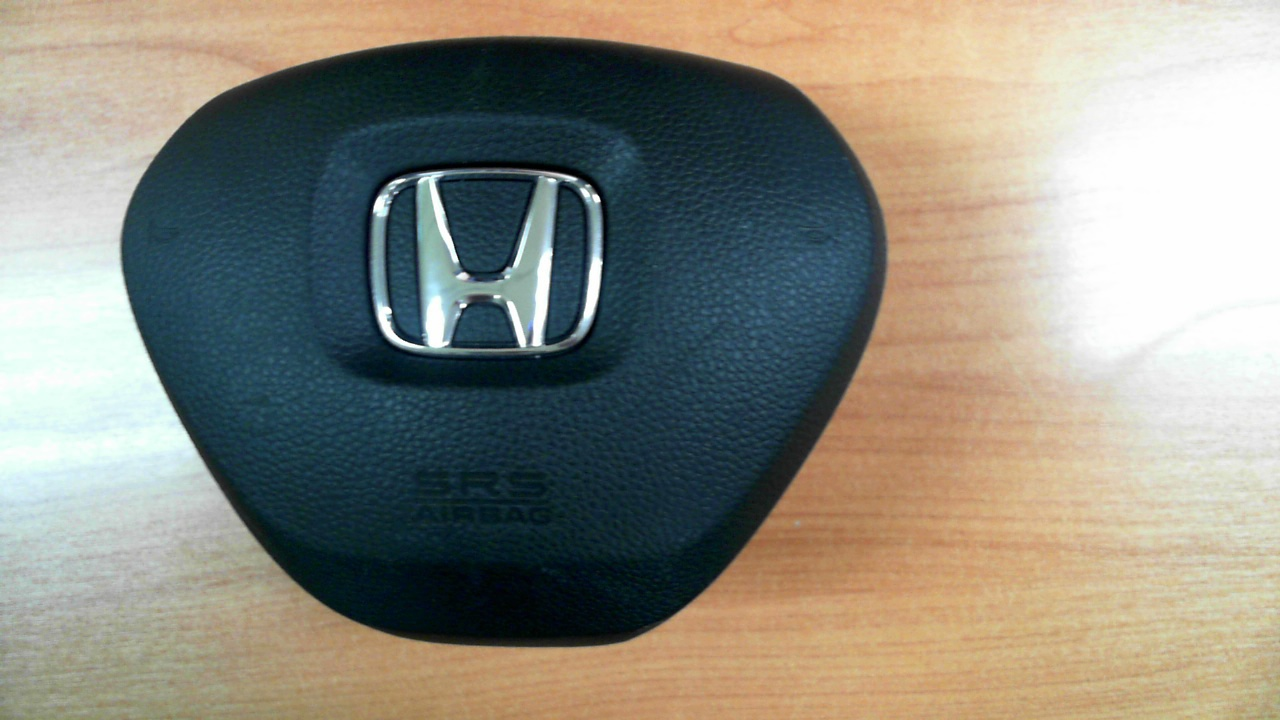Airbag: (118, 37, 889, 649)
Honda: (370, 167, 604, 357)
